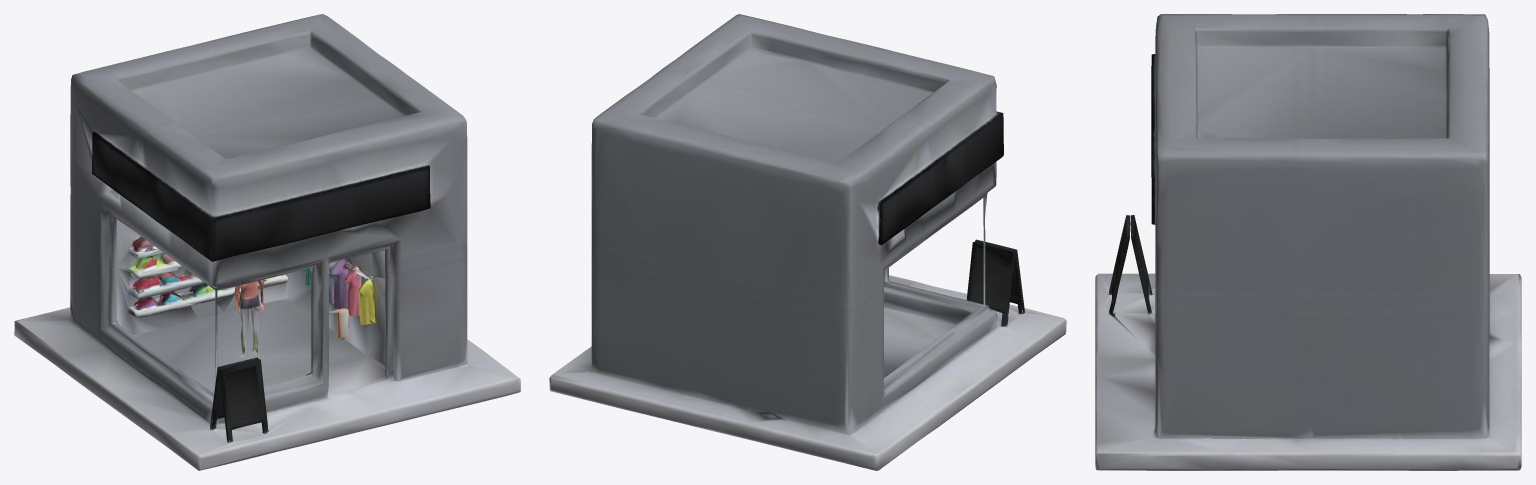
The model's file is shop-leap.glb.
The picture shows the model from 3 angles, left to right: view 1: azimuth 30°, elevation 25°; view 2: azimuth 150°, elevation 25°; view 3: azimuth 270°, elevation 25°; orthographic projection. The views are drawn at different scales.
Parts seen in each view (by area): view 1: prop; view 2: prop; view 3: prop.
Boxes of the visible parts, x1,y1,x2,y2 form: prop: [14, 14, 520, 470]; prop: [549, 14, 1066, 470]; prop: [1095, 14, 1521, 470].
Bounding box in the file's own units: 0.9801 × 0.7666 × 0.9777.
Materials: 1 (1 with a texture image).
